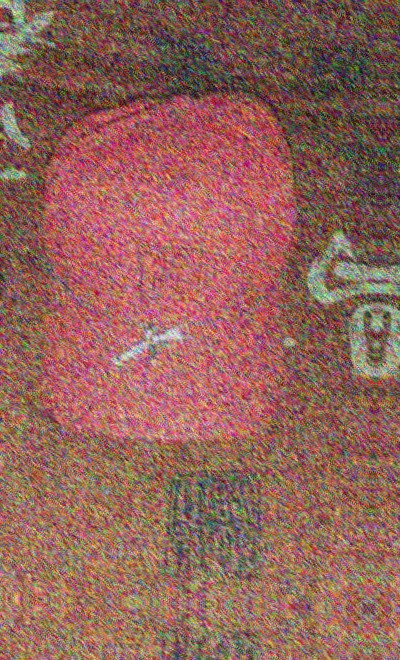Hat: (15, 82, 329, 464)
